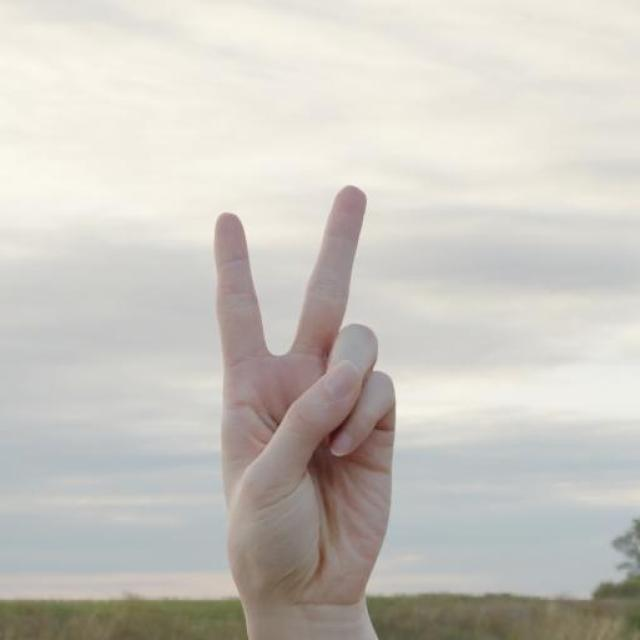V: (209, 180, 404, 605)
